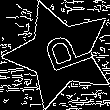P_W: (29, 28, 91, 80)
